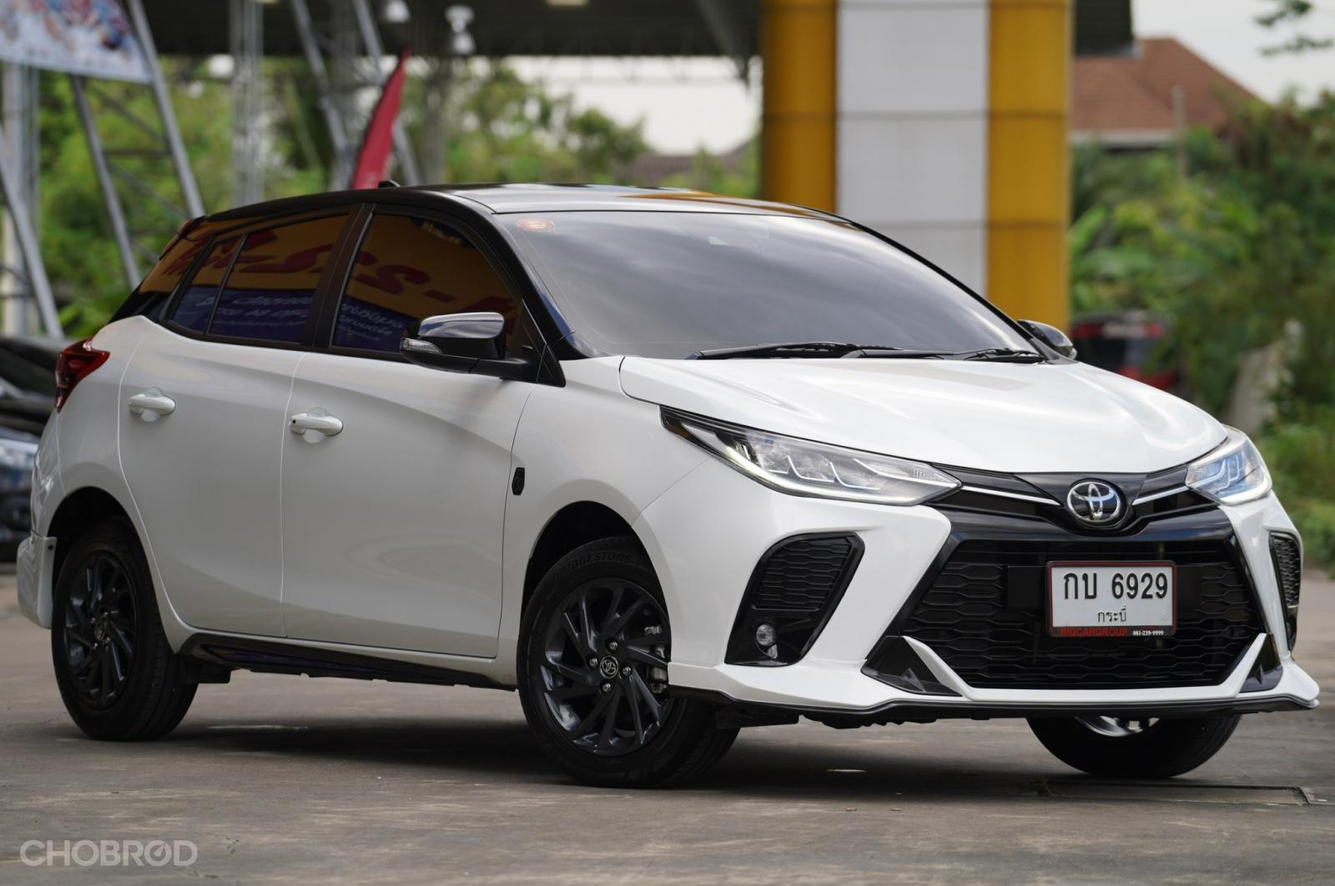license-plate: (1040, 555, 1180, 648)
